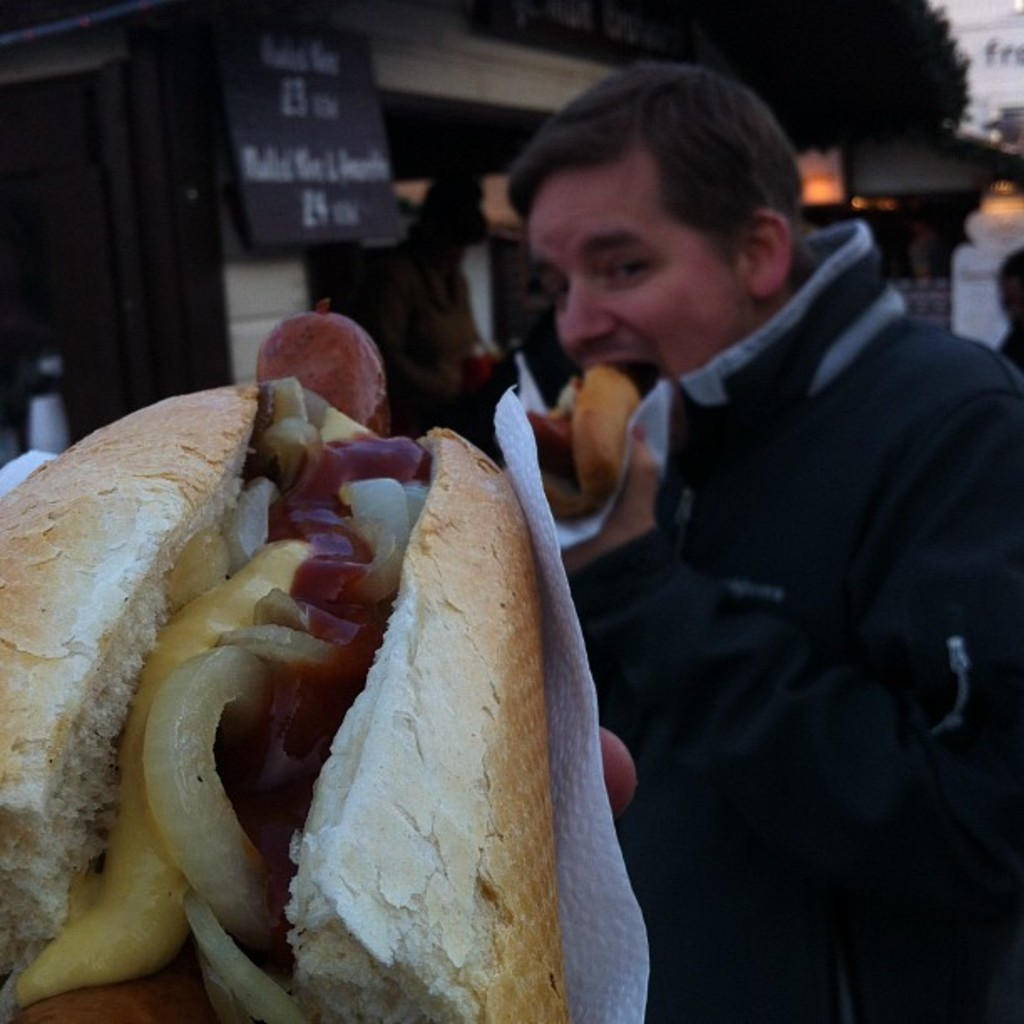hot_dog: (0, 368, 577, 1022)
